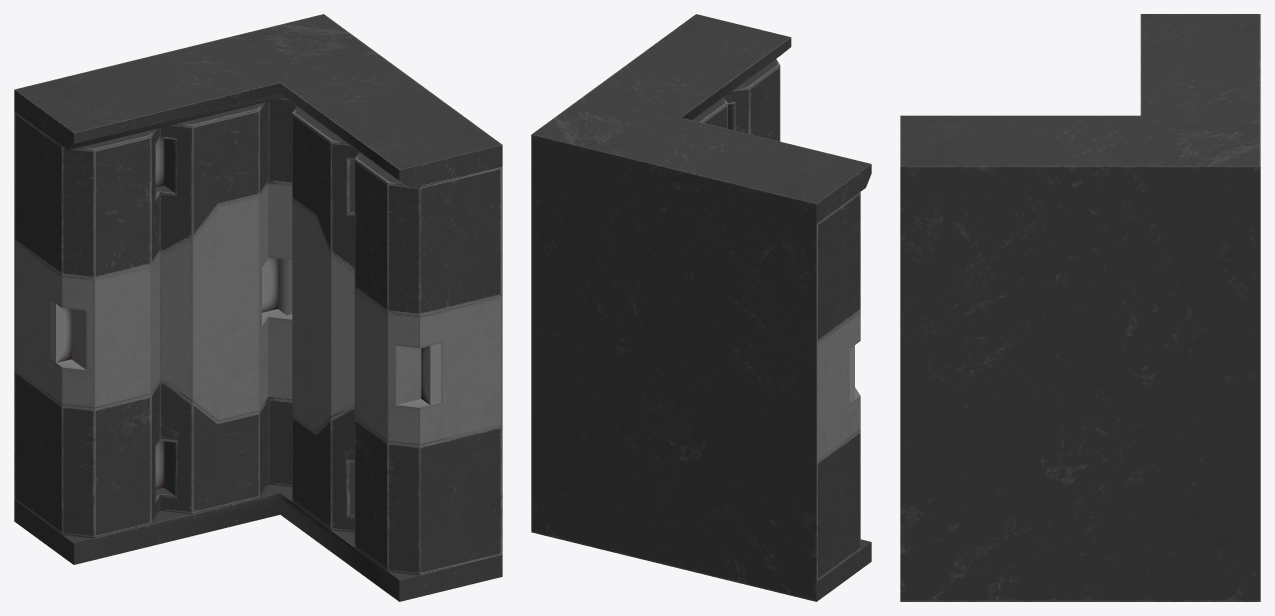
Rendered from tile_wall11_ConerIn.FBX.
3 views of the same model, side by side, from view 1: azimuth 30°, elevation 25°; view 2: azimuth 150°, elevation 25°; view 3: azimuth 270°, elevation 25° (orthographic). The views are drawn at different scales.
Visible parts, largest first — view 1: tile_wall11_ConerIn; view 2: tile_wall11_ConerIn; view 3: tile_wall11_ConerIn.
Boxes of the visible parts, x1,y1,x2,y2 form: tile_wall11_ConerIn: [14, 14, 502, 601]; tile_wall11_ConerIn: [531, 14, 871, 601]; tile_wall11_ConerIn: [900, 14, 1260, 601].
Bounding box in the file's own units: 150 × 200 × 150.
1 material, 1 textured.
